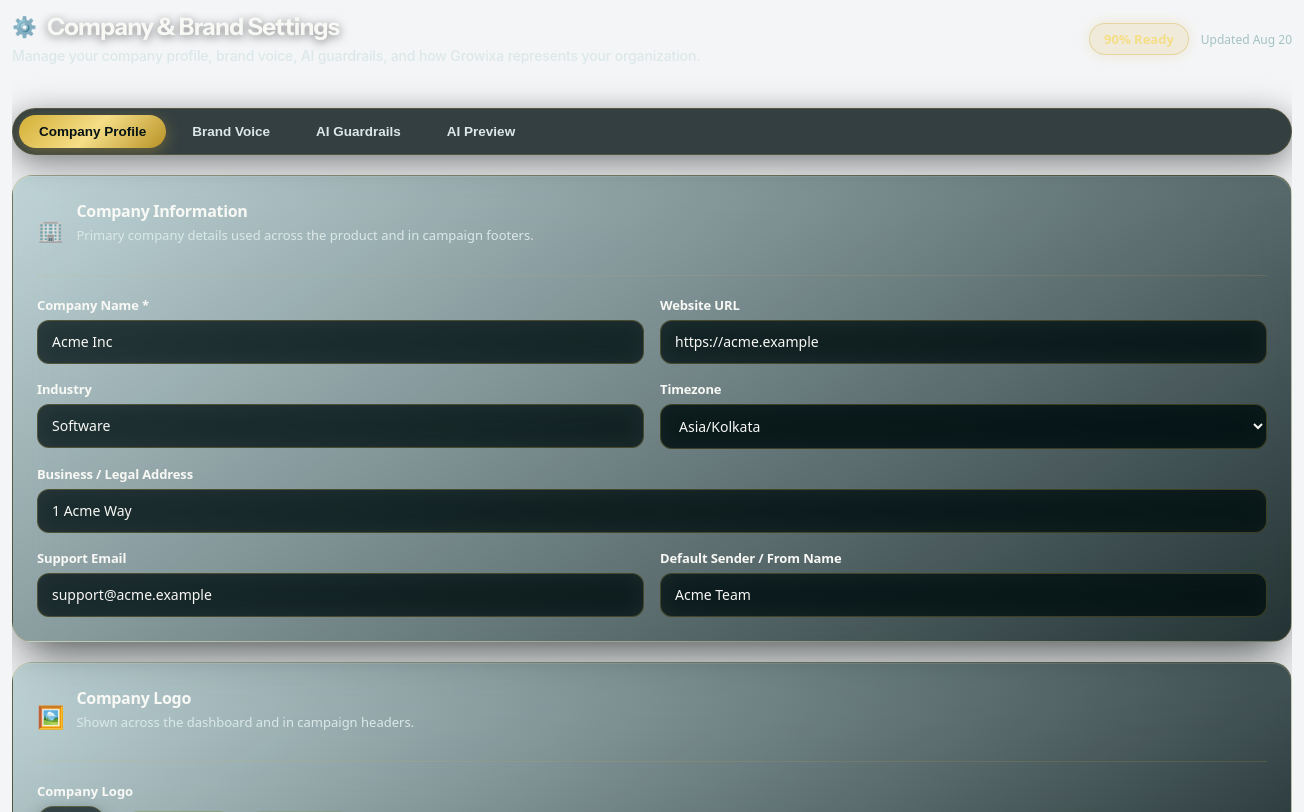
Test case: CompanySettingsForm › shows the sticky save bar only after an edit, and saves company then brand on Save
Expected: the text "You have unsaved changes" is not shown
Replace the text in the field showing "Acme Inc" with "Acme Corp" at point(340, 342), box [37,320,644,364]
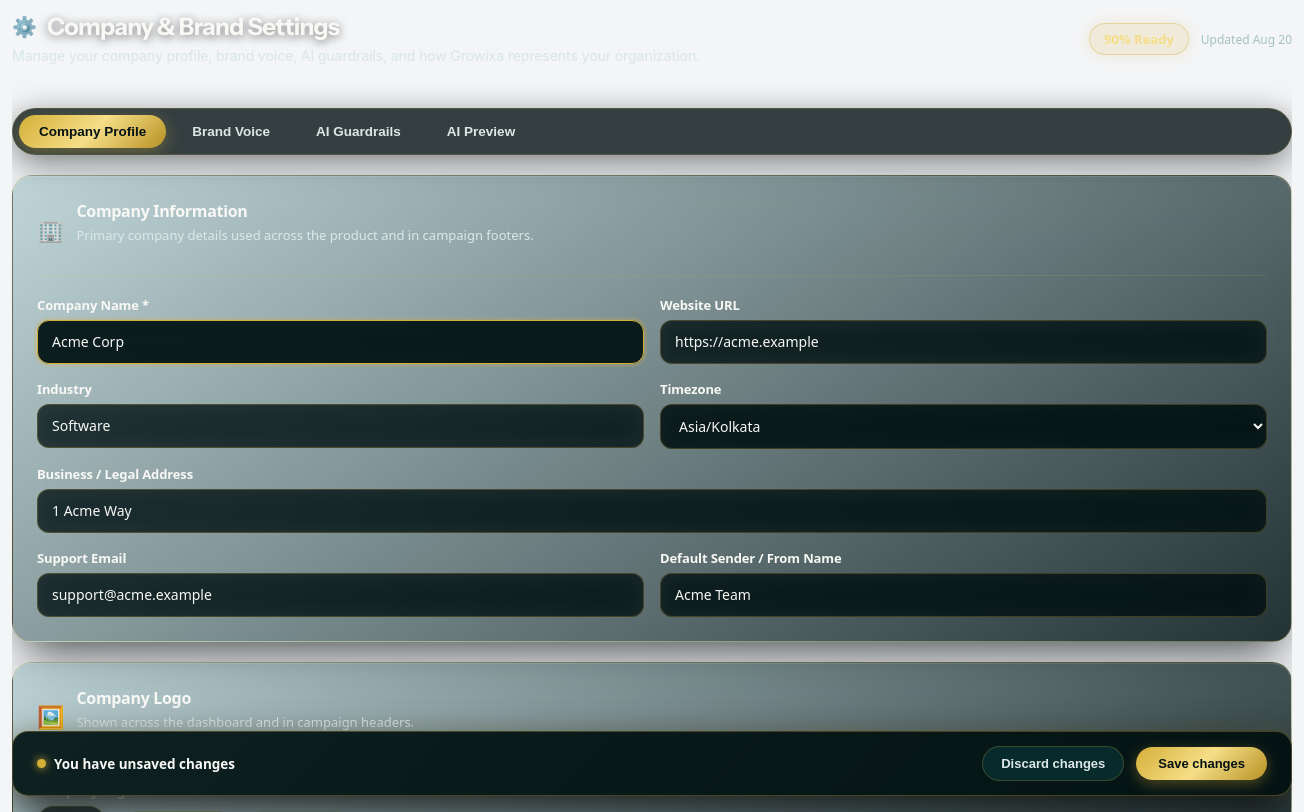
Result: the text "You have unsaved changes" is shown at [37,754,235,772]
Click the button "Save changes".
click(1202, 764)  # box [1136,747,1267,780]
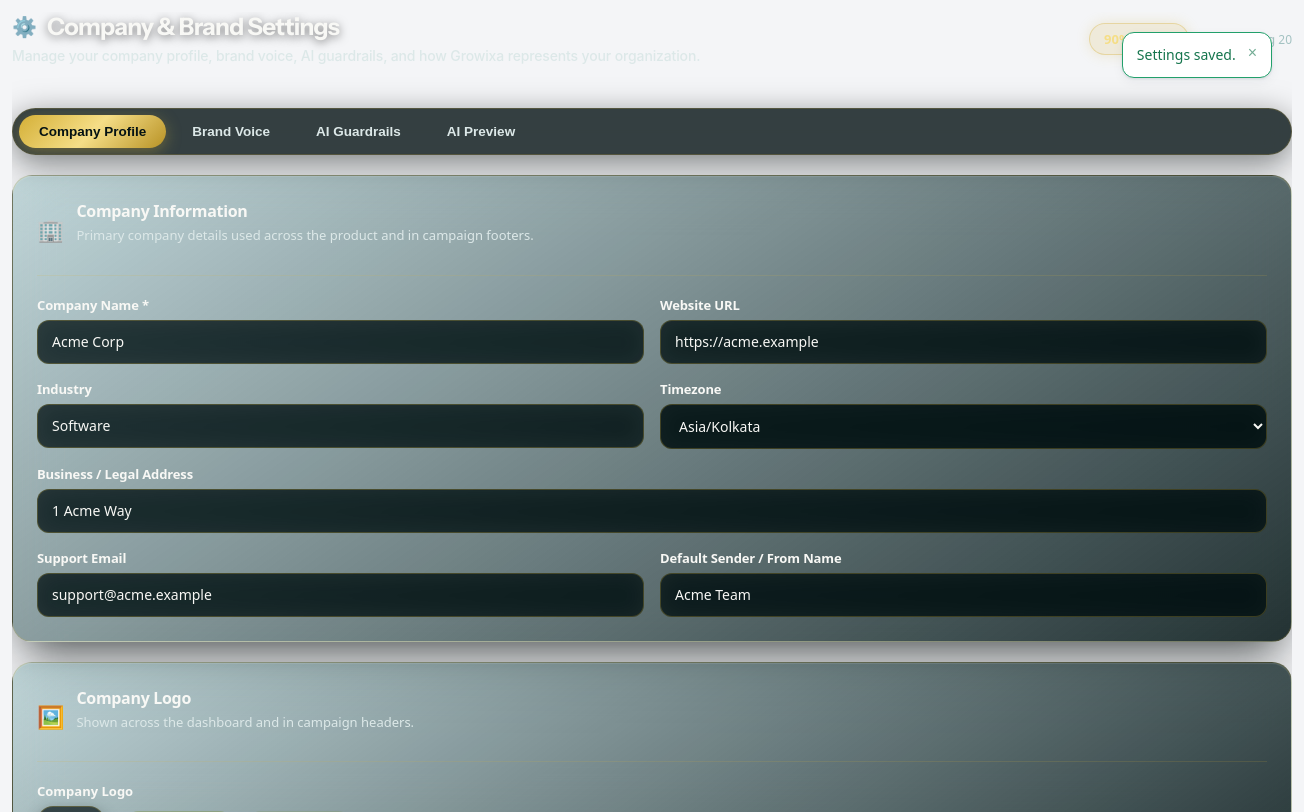
Result: the text "Settings saved." is shown at [1137,45,1236,65]
Result: the text "You have unsaved changes" is gone
